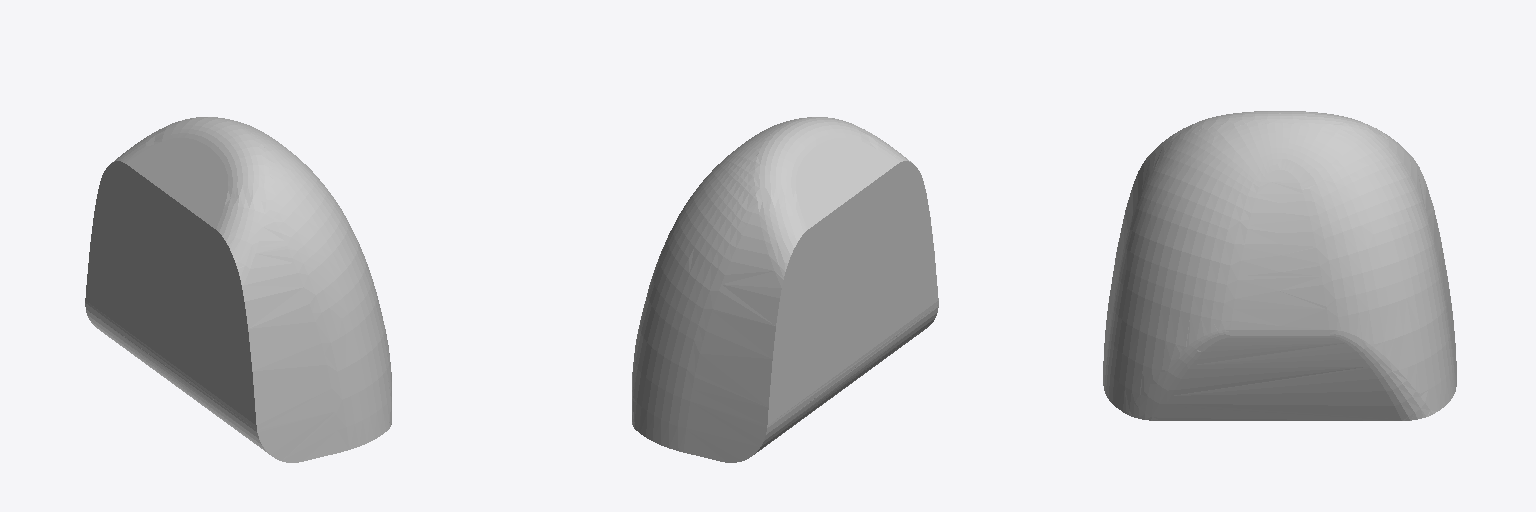
The model's file is tesollo_left_ll_dg_4_4_visuals_ll_dg_4_tip_mesh.obj.
The picture shows the model from 3 angles: view 1: azimuth 30°, elevation 25°; view 2: azimuth 150°, elevation 25°; view 3: azimuth 270°, elevation 25°; orthographic projection.
Bounding box in the file's own units: 0.012 × 0.0176 × 0.0215.